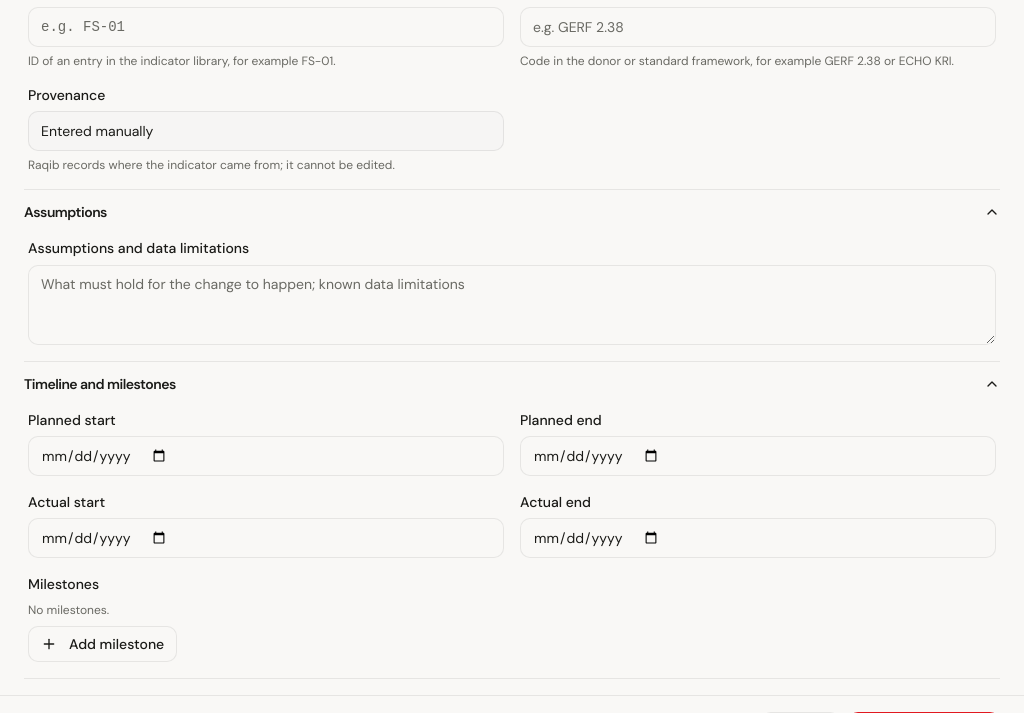
IndicatorForm › checks dates inline when the field loses focus
(page scrolled)
Type "2026-05-01" into the date field labelled "Planned start". click: (266, 456)
box: [28, 436, 504, 476]
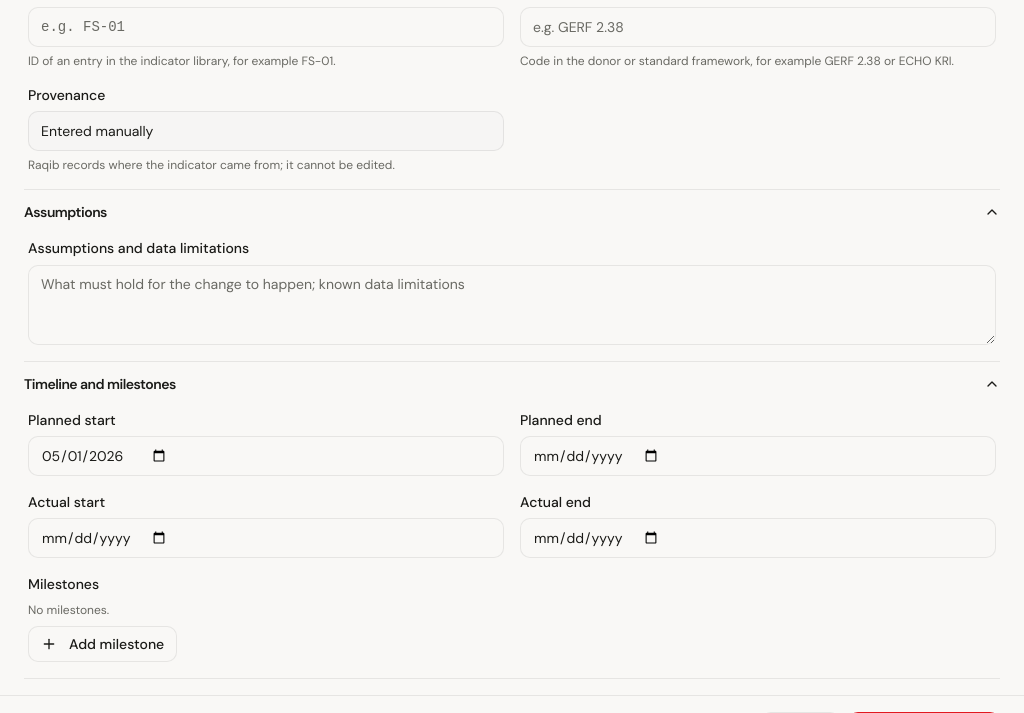
Type "2026-04-01" into the date field labelled "Planned end". click: (758, 456)
box: [520, 436, 996, 476]
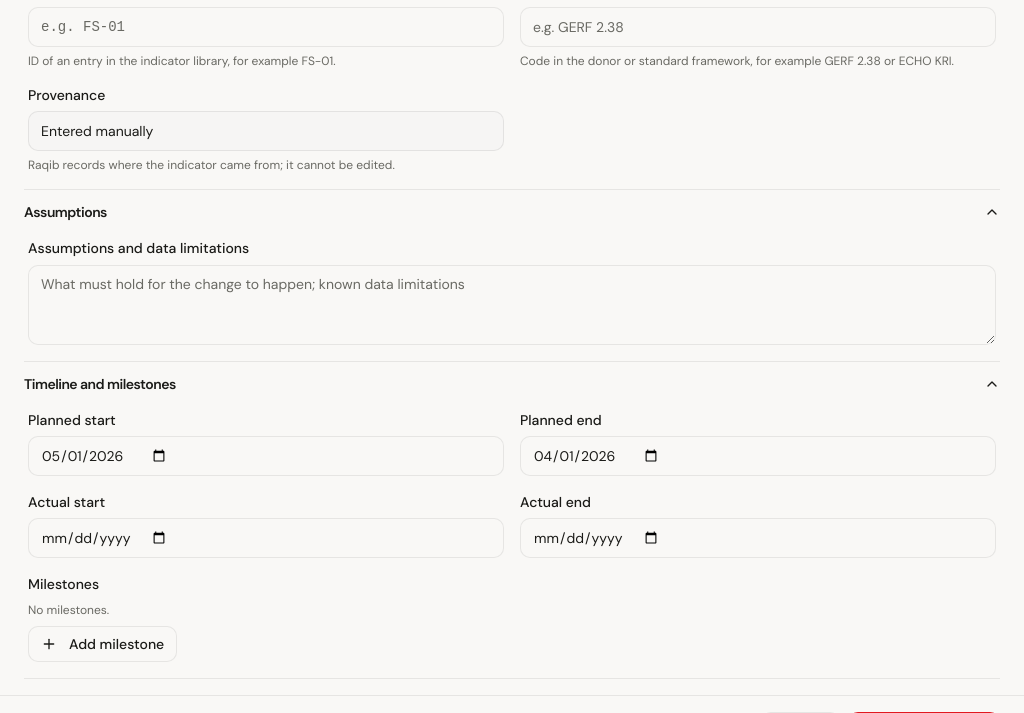
Leave the date field labelled "Planned end", box [520, 436, 996, 476]
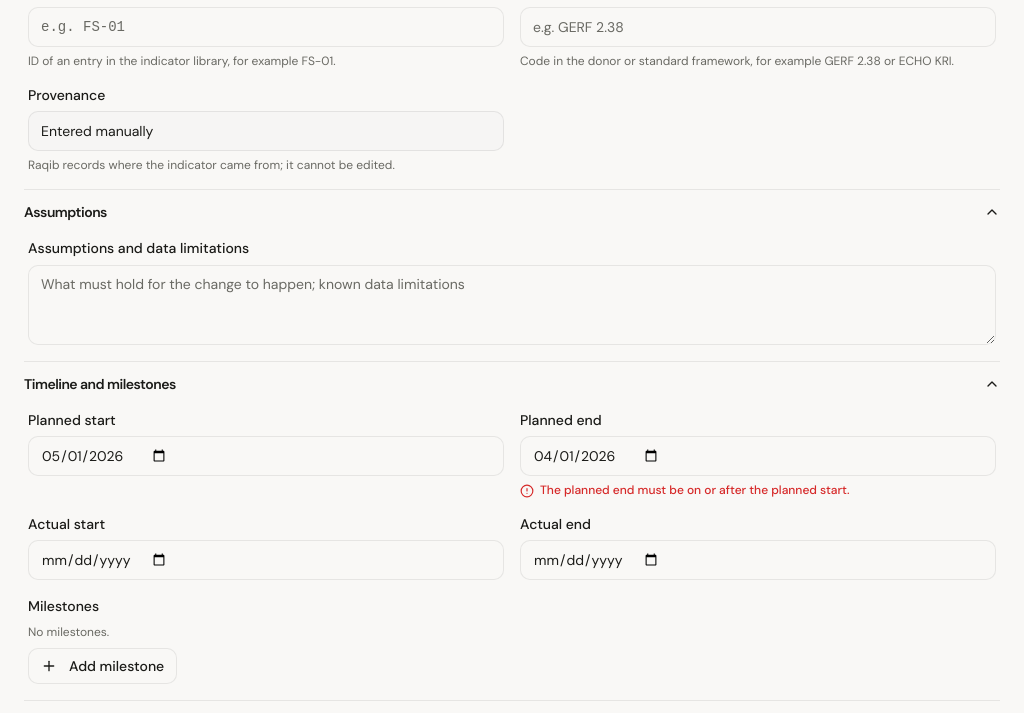
Expected: the text "The planned end must be on or after the planned start." is shown, [520, 482, 850, 498]
